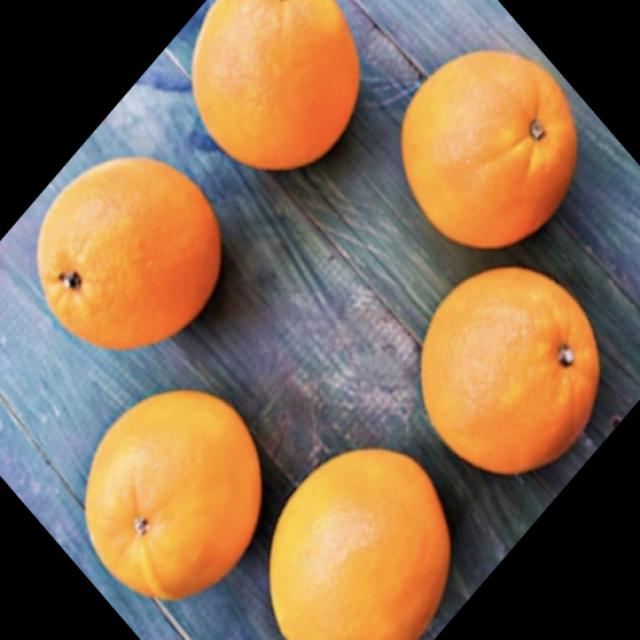orange: (70, 367, 274, 606), (408, 256, 612, 482), (24, 147, 243, 353), (393, 35, 583, 260), (263, 432, 454, 640), (183, 0, 376, 179)
